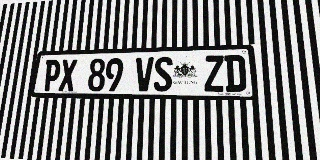8: (87, 58, 106, 91)
9: (104, 58, 124, 91)
D: (224, 55, 247, 92)
P: (42, 59, 61, 91)
S: (153, 57, 173, 92)
V: (135, 57, 154, 92)
X: (58, 59, 77, 91)
Z: (204, 55, 225, 92)
